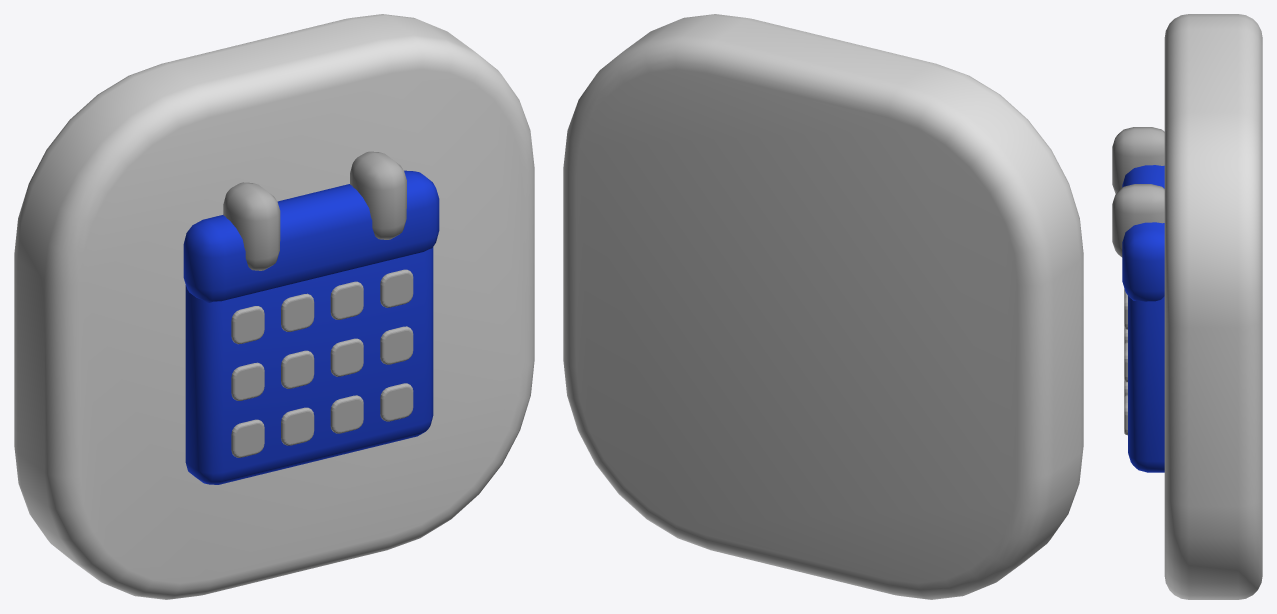
Rendered from home_icon_event.glb.
3 views of the same model, side by side, from view 1: azimuth 30°, elevation 25°; view 2: azimuth 150°, elevation 25°; view 3: azimuth 270°, elevation 25° (orthographic). The views are drawn at different scales.
Visible parts, largest first — view 1: Cube.037, Cube.038, Cube.039, Cube.041, Cube.040; view 2: Cube.037; view 3: Cube.037, Cube.038, Cube.040, Cube.039, Cube.041.
Boxes of the visible parts, x1=… form: Cube.037: x1=14, y1=14, x2=534, y2=599; Cube.038: x1=185, y1=247, x2=433, y2=484; Cube.039: x1=183, y1=170, x2=439, y2=302; Cube.041: x1=231, y1=269, x2=413, y2=457; Cube.040: x1=223, y1=151, x2=406, y2=270; Cube.037: x1=563, y1=14, x2=1083, y2=599; Cube.037: x1=1164, y1=14, x2=1262, y2=599; Cube.038: x1=1128, y1=296, x2=1164, y2=472; Cube.040: x1=1112, y1=127, x2=1164, y2=257; Cube.039: x1=1122, y1=165, x2=1164, y2=301; Cube.041: x1=1124, y1=289, x2=1127, y2=435.
Bounding box in the file's own units: 1.22 × 1.22 × 0.3526.
